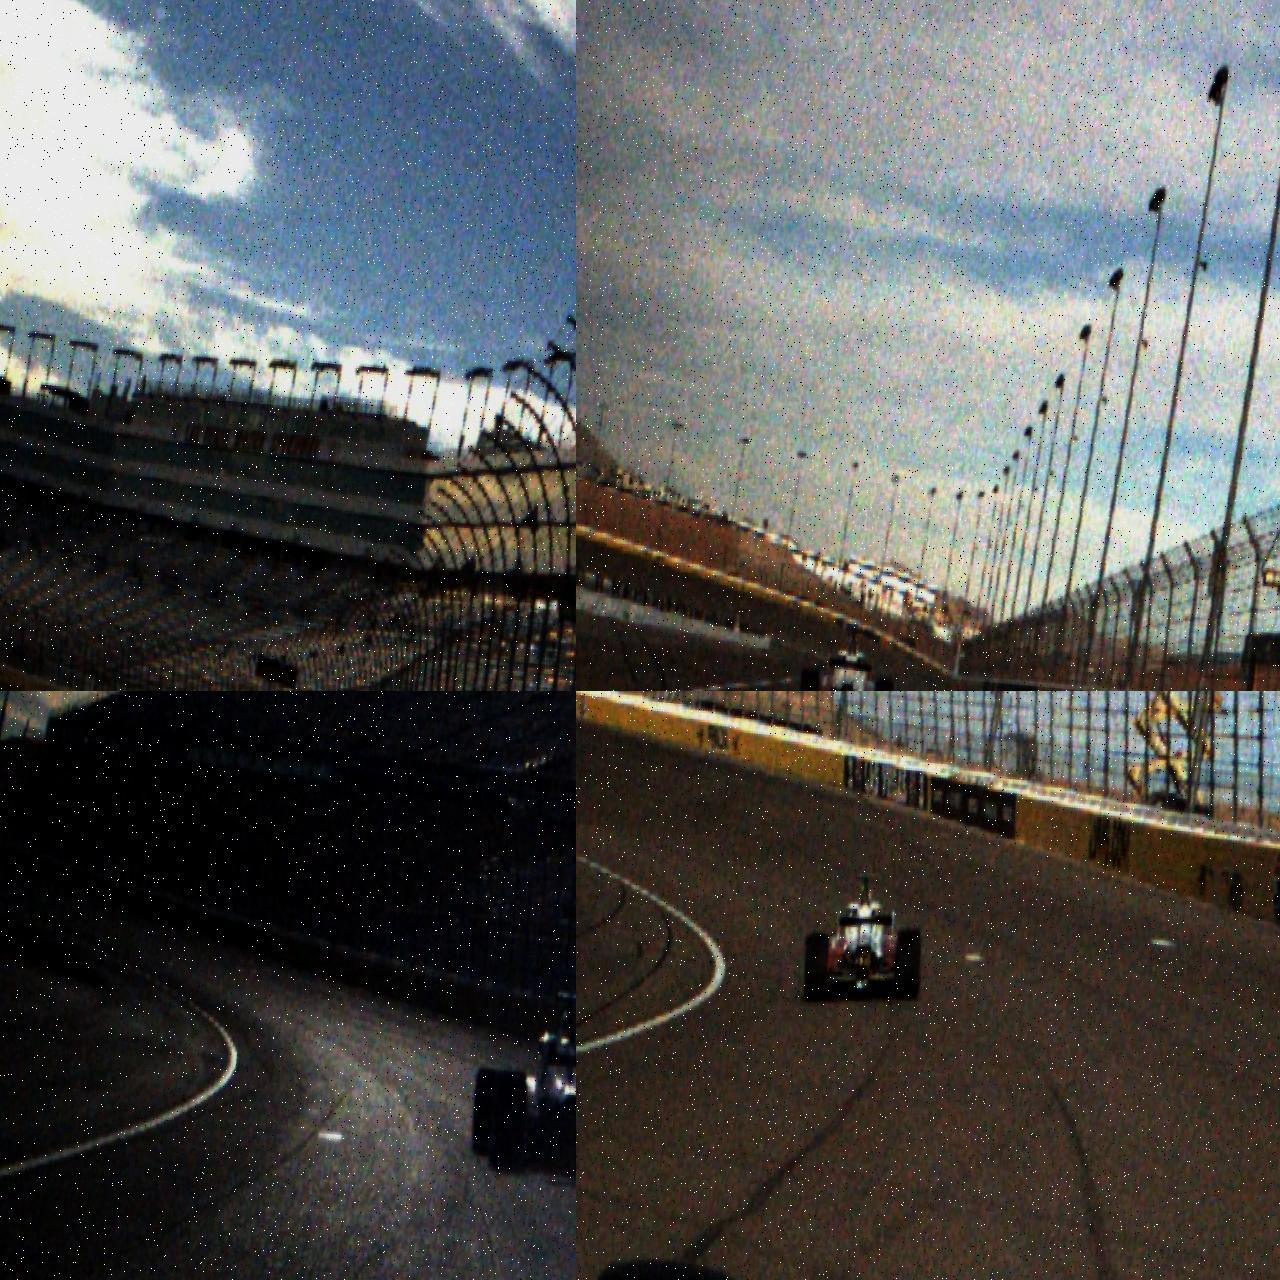AV: (468, 983, 576, 1185), (803, 869, 927, 1013), (796, 617, 903, 692)
Wheel: (488, 1070, 527, 1173), (470, 1069, 501, 1157), (892, 928, 922, 1001), (803, 932, 830, 1003), (797, 668, 821, 692), (871, 676, 896, 692)
